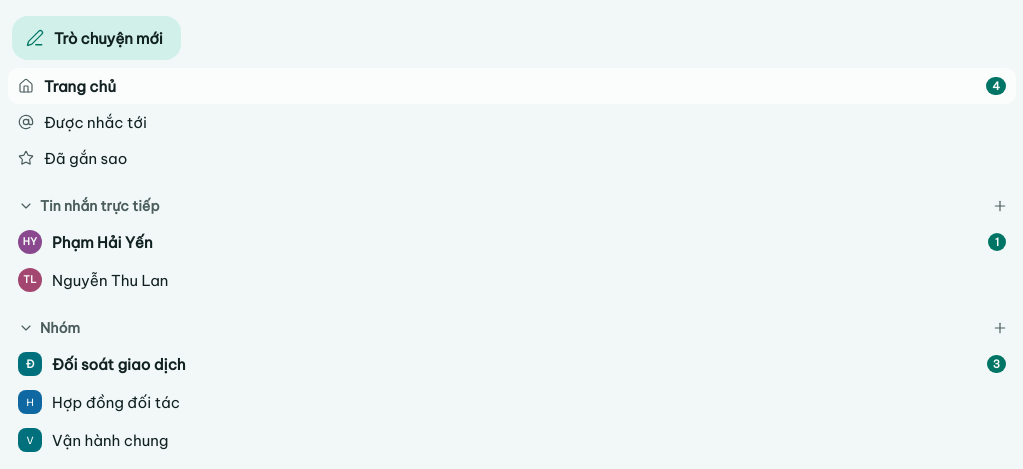
it: ChatNavigator › offers "Nhắn tin trực tiếp" and "Tạo nhóm" from "Trò chuyện mới"
Click the button "Trò chuyện mới" at (96, 38), box x1=12 y1=16 x2=181 y2=60
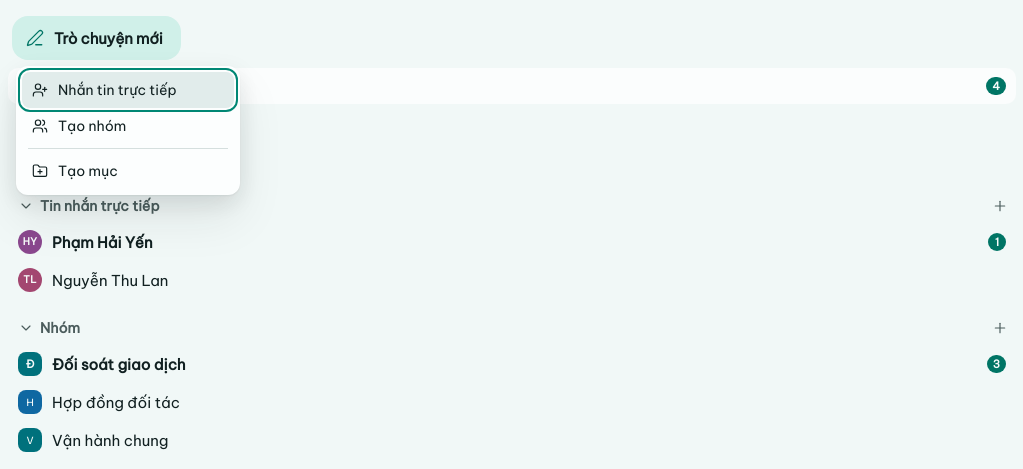
Expected: the menu item "Nhắn tin trực tiếp" is shown, x1=22 y1=72 x2=234 y2=108
Expected: the menu item "Tạo nhóm" is shown, x1=22 y1=108 x2=234 y2=144
